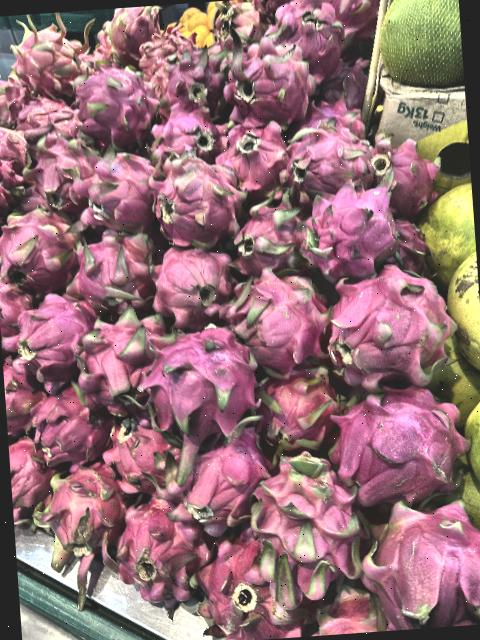buah-naga-belum-matang: (359, 491, 480, 632), (262, 454, 368, 609), (44, 474, 122, 570), (99, 5, 160, 59)
buah-naga-matang: (328, 376, 474, 506), (325, 261, 464, 387), (152, 330, 262, 458), (294, 172, 410, 278), (158, 422, 267, 524), (201, 539, 300, 640), (121, 497, 207, 613), (229, 264, 331, 360), (79, 310, 166, 413), (223, 38, 318, 128), (147, 163, 248, 240), (363, 126, 449, 214), (68, 235, 156, 318), (150, 245, 237, 328), (6, 15, 96, 94), (22, 384, 106, 467), (262, 372, 340, 461), (130, 102, 232, 170), (233, 196, 316, 278), (72, 150, 154, 233), (75, 59, 154, 139), (269, 0, 347, 81), (0, 209, 74, 291), (24, 132, 106, 206), (17, 300, 83, 390), (214, 116, 293, 190), (283, 125, 354, 203), (102, 424, 172, 483), (0, 128, 45, 211)
